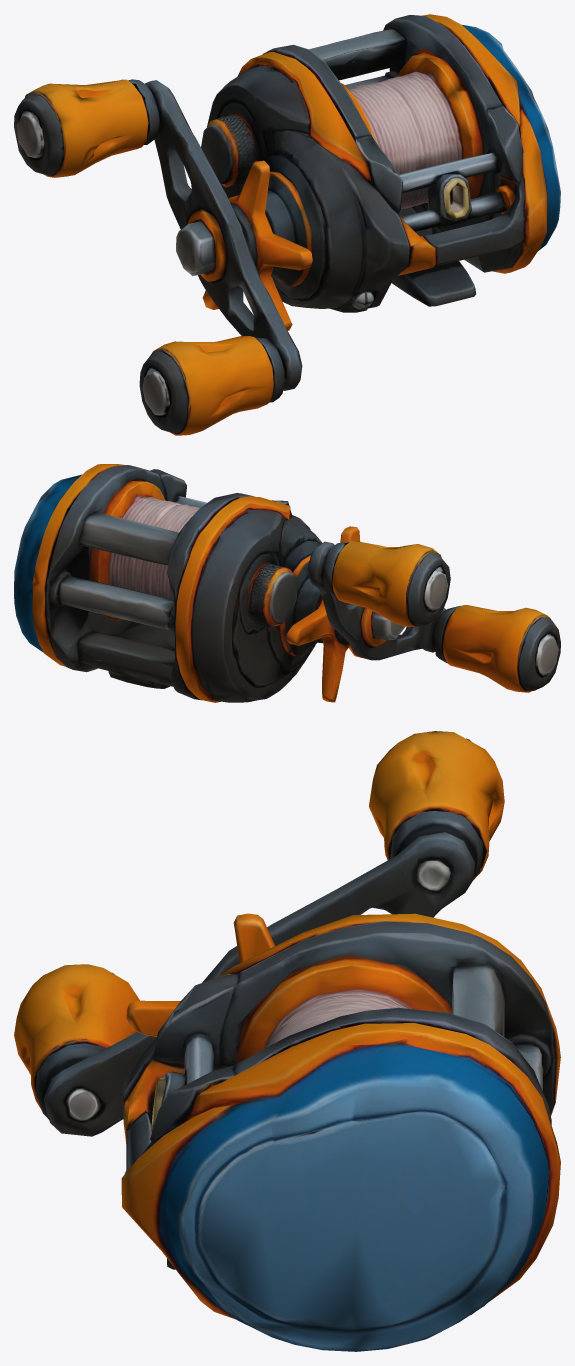
Rendered from gear-reel3.glb.
The picture shows the model from 3 angles, top to bottom: view 1: azimuth 30°, elevation 25°; view 2: azimuth 150°, elevation 25°; view 3: azimuth 270°, elevation 25°; orthographic projection. The views are drawn at different scales.
Visible parts, largest first — view 1: tripo_node_4b40a398-407b-49b0-9a94-c3f484336028; view 2: tripo_node_4b40a398-407b-49b0-9a94-c3f484336028; view 3: tripo_node_4b40a398-407b-49b0-9a94-c3f484336028.
Part boxes in pixels (bbox=[...]): tripo_node_4b40a398-407b-49b0-9a94-c3f484336028: bbox=[14, 14, 560, 435]; tripo_node_4b40a398-407b-49b0-9a94-c3f484336028: bbox=[14, 464, 560, 702]; tripo_node_4b40a398-407b-49b0-9a94-c3f484336028: bbox=[14, 731, 560, 1351].
Bounding box in the file's own units: 0.9997 × 0.5274 × 0.7349.
Materials: 1 (1 with a texture image).
